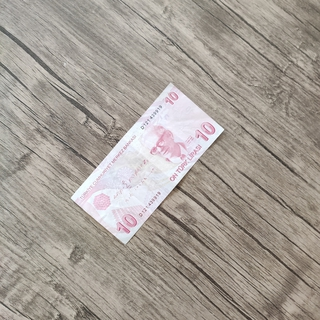10TLBack: (68, 80, 225, 246)
